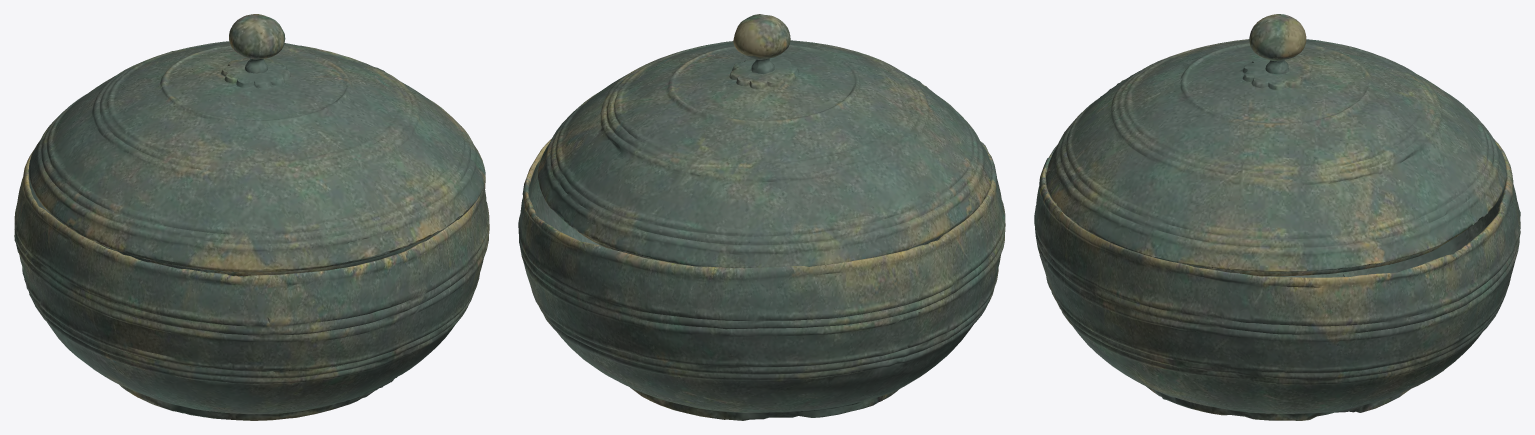
File: houu.glb
3 renders of one model, left to right at view 1: azimuth 30°, elevation 25°; view 2: azimuth 150°, elevation 25°; view 3: azimuth 270°, elevation 25°, orthographic.
Visible parts, largest first — view 1: ssu000120-001-30000_step3_03 - Default_0; view 2: ssu000120-001-30000_step3_03 - Default_0; view 3: ssu000120-001-30000_step3_03 - Default_0.
Part boxes in pixels (bbox=[...]): ssu000120-001-30000_step3_03 - Default_0: bbox=[14, 14, 489, 420]; ssu000120-001-30000_step3_03 - Default_0: bbox=[518, 14, 1005, 420]; ssu000120-001-30000_step3_03 - Default_0: bbox=[1034, 14, 1520, 420].
Size of the model in its own units: 0.235 by 0.187 by 0.2381.
1 material, 1 textured.
